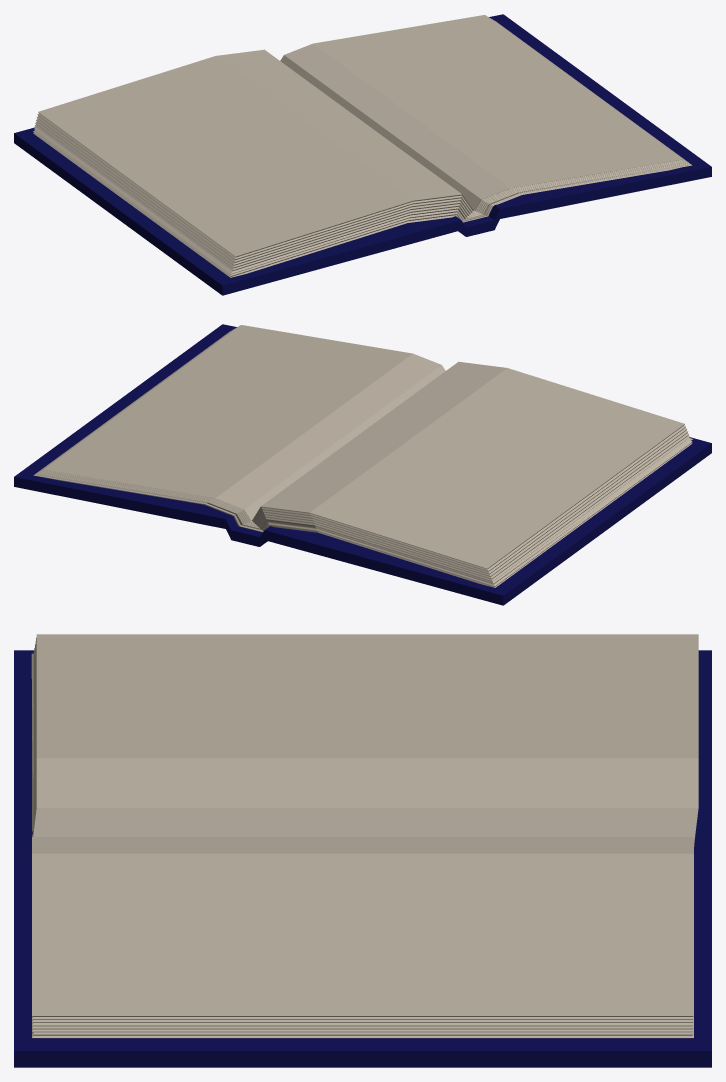
File: bookopen.fbx
3 views of the same model, one above another, from view 1: azimuth 30°, elevation 25°; view 2: azimuth 150°, elevation 25°; view 3: azimuth 270°, elevation 25° (orthographic). The views are drawn at different scales.
Visible parts, largest first — view 1: Cube.001, Cube; view 2: Cube.001, Cube; view 3: Cube.001, Cube.
Part boxes in pixels (left/top/right/bottom): Cube.001: left=33, top=15, right=692, bottom=277; Cube: left=14, top=14, right=711, bottom=295; Cube.001: left=33, top=325, right=692, bottom=587; Cube: left=14, top=324, right=711, bottom=605; Cube.001: left=31, top=634, right=698, bottom=1038; Cube: left=14, top=650, right=711, bottom=1067.
Size of the model in its own units: 432 by 36.04 by 319.
